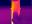Hotspot: (11, 20, 13, 23)
